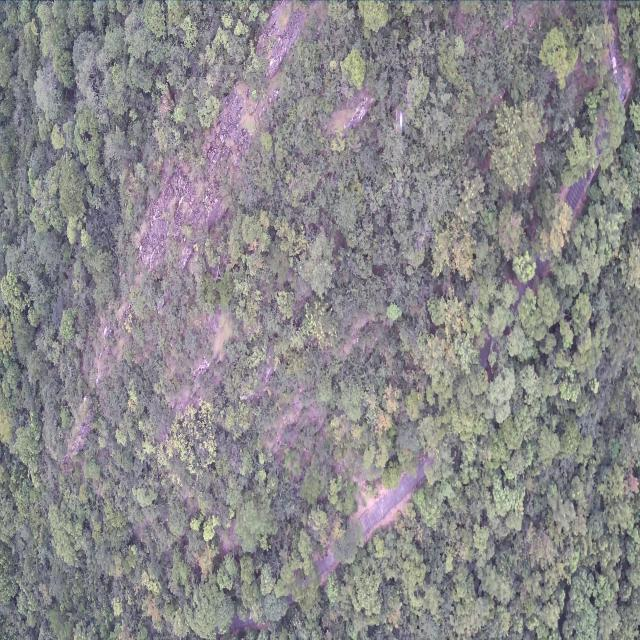UAV: (394, 108, 410, 134)
